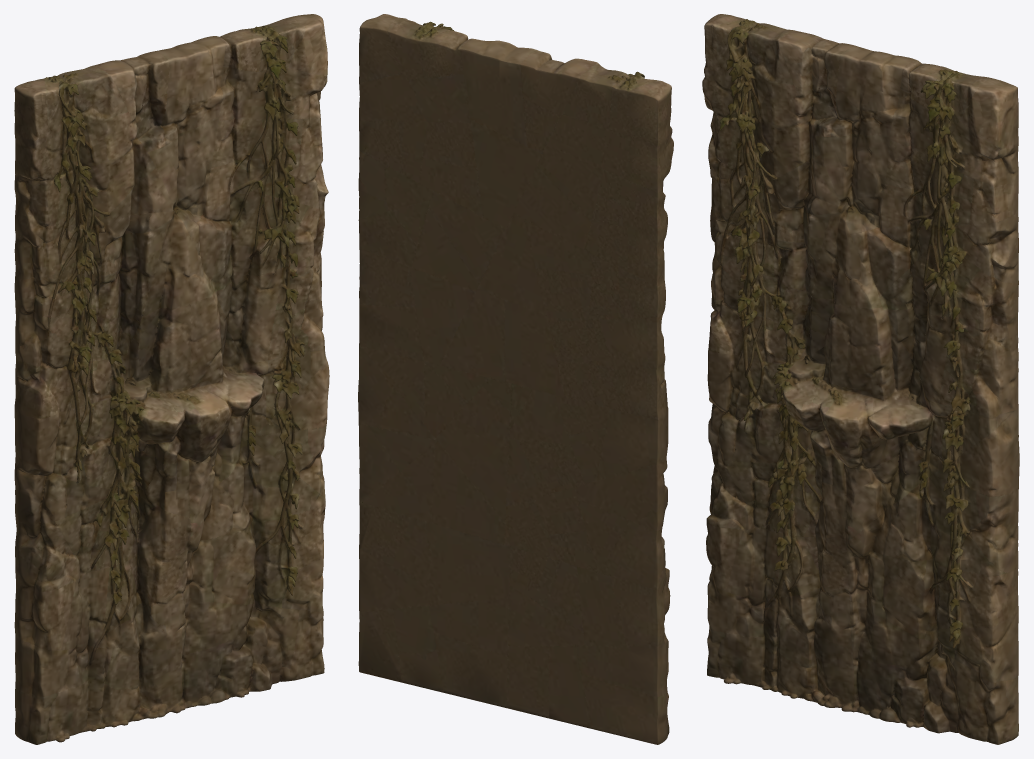
File: Meshy_AI_cliff_vertical_b_0823030724_image-to-3d-texture.glb
3 renders of one model, left to right at view 1: azimuth 30°, elevation 25°; view 2: azimuth 150°, elevation 25°; view 3: azimuth 330°, elevation 25°, orthographic.
Parts seen in each view (by area): view 1: mesh_node; view 2: mesh_node; view 3: mesh_node.
Part boxes in pixels (x1=…): mesh_node: x1=14, y1=14, x2=329, y2=744; mesh_node: x1=358, y1=14, x2=673, y2=744; mesh_node: x1=702, y1=14, x2=1019, y2=744.
Bounding box in the file's own units: 0.9248 × 1.91 × 0.2129.
1 material, 1 textured.
